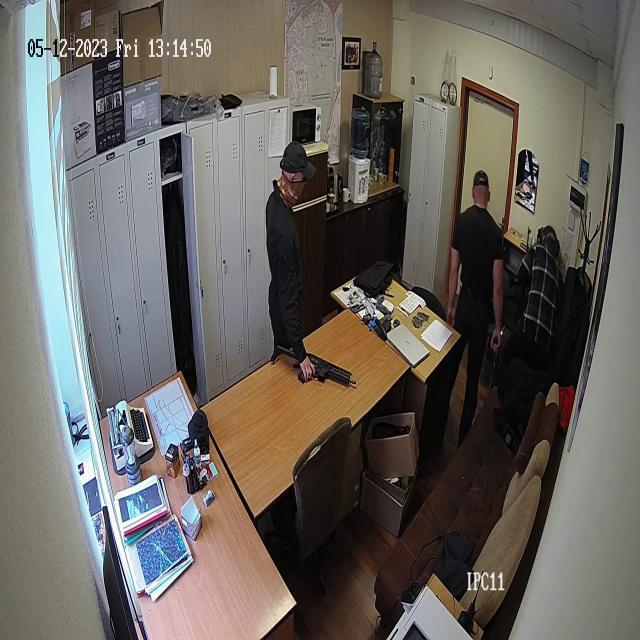pistol: (272, 342, 356, 387), (490, 330, 500, 370)
